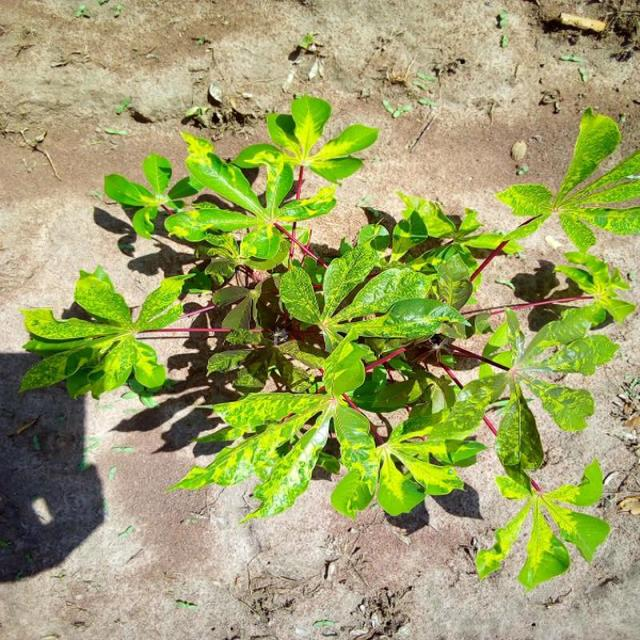cassava leaf: (18, 94, 638, 590)
